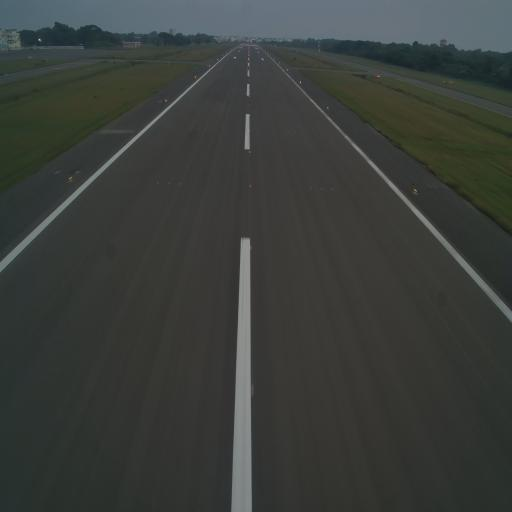off: (156, 178, 161, 186), (309, 184, 314, 192), (167, 181, 171, 188), (178, 180, 182, 187), (331, 183, 334, 192), (320, 185, 323, 193), (300, 130, 304, 135), (189, 127, 193, 131), (203, 126, 207, 130), (286, 130, 290, 134), (294, 130, 297, 134), (198, 126, 200, 131)
on: (248, 378, 257, 401), (411, 184, 420, 196), (247, 180, 253, 192), (247, 146, 252, 158), (67, 174, 72, 184), (248, 243, 252, 253), (163, 96, 168, 103), (326, 106, 330, 112), (248, 127, 251, 133), (248, 102, 250, 109), (248, 113, 250, 119)
